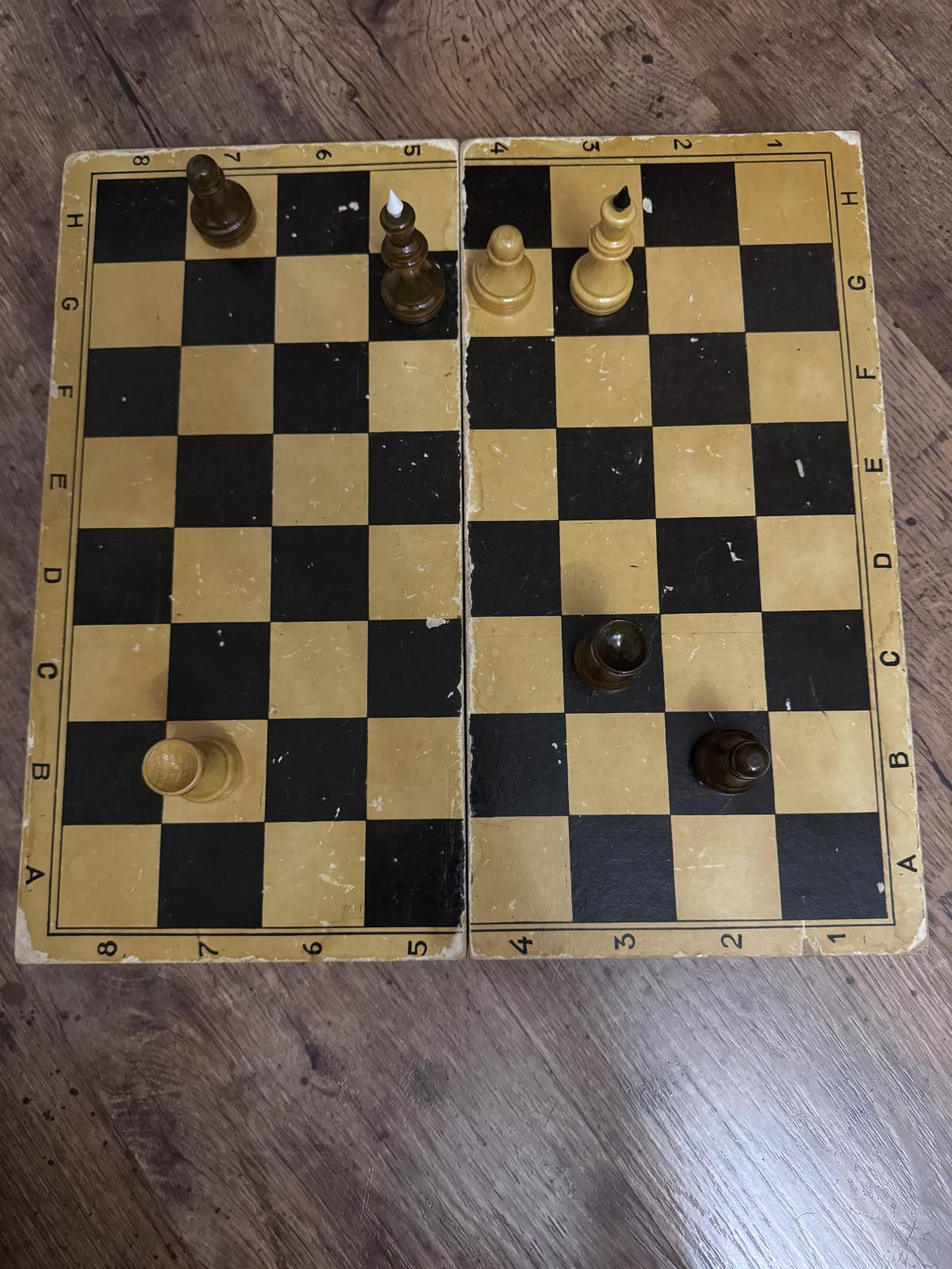Chess-Board: (57, 160, 886, 928)
